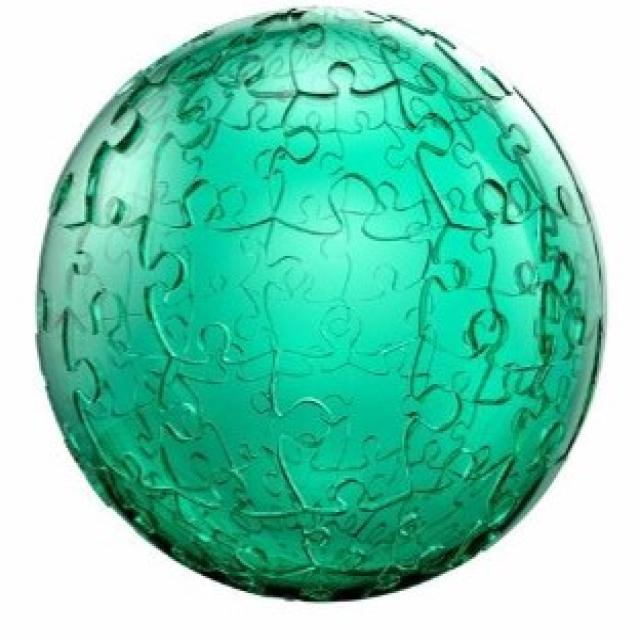electronic: (39, 0, 604, 603)
